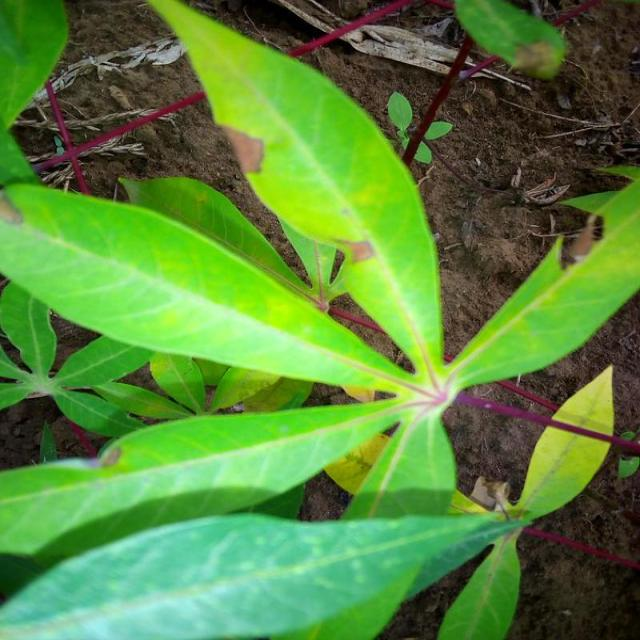cassava leaf: (0, 1, 638, 637), (145, 0, 445, 373), (0, 179, 418, 395)
